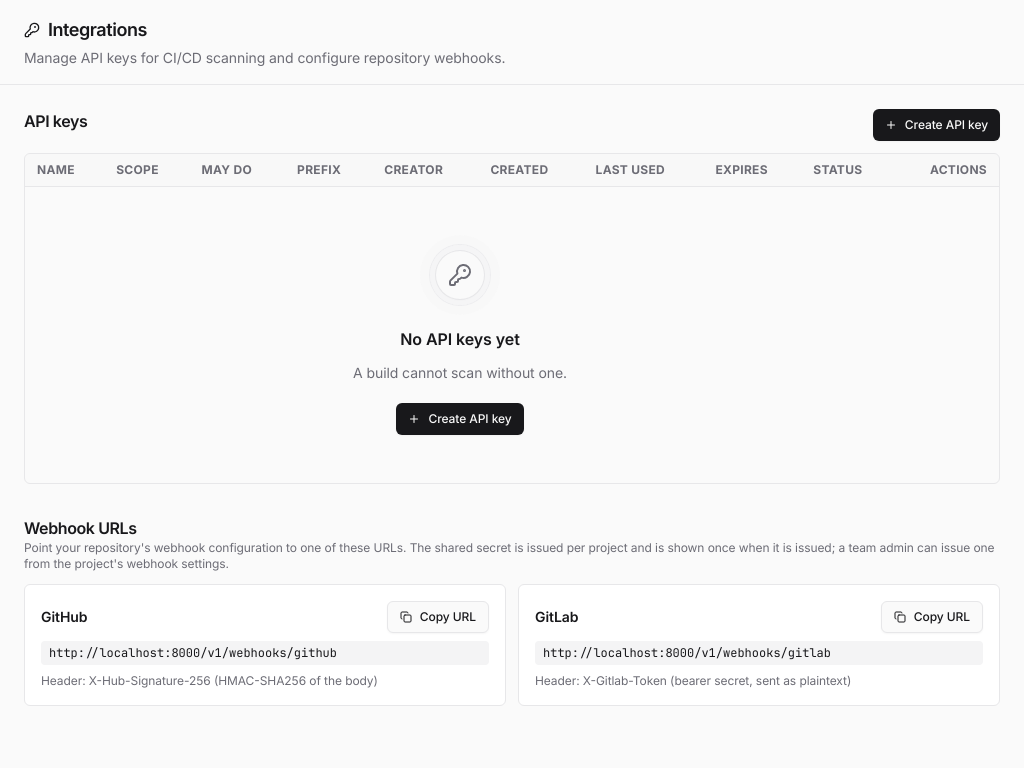
Test case: IntegrationsPage › offers the key from the empty state, for a reader who can create one
expect the message with test id "integrations-keys-empty" shows "A build cannot scan without one.": met, box [353,364,567,381]
Pressed, not just present: a button wired to nothing would have passed.
Click the button with test id "integrations-keys-empty-create" at {"x": 460, "y": 419}, box [396,403,524,435]
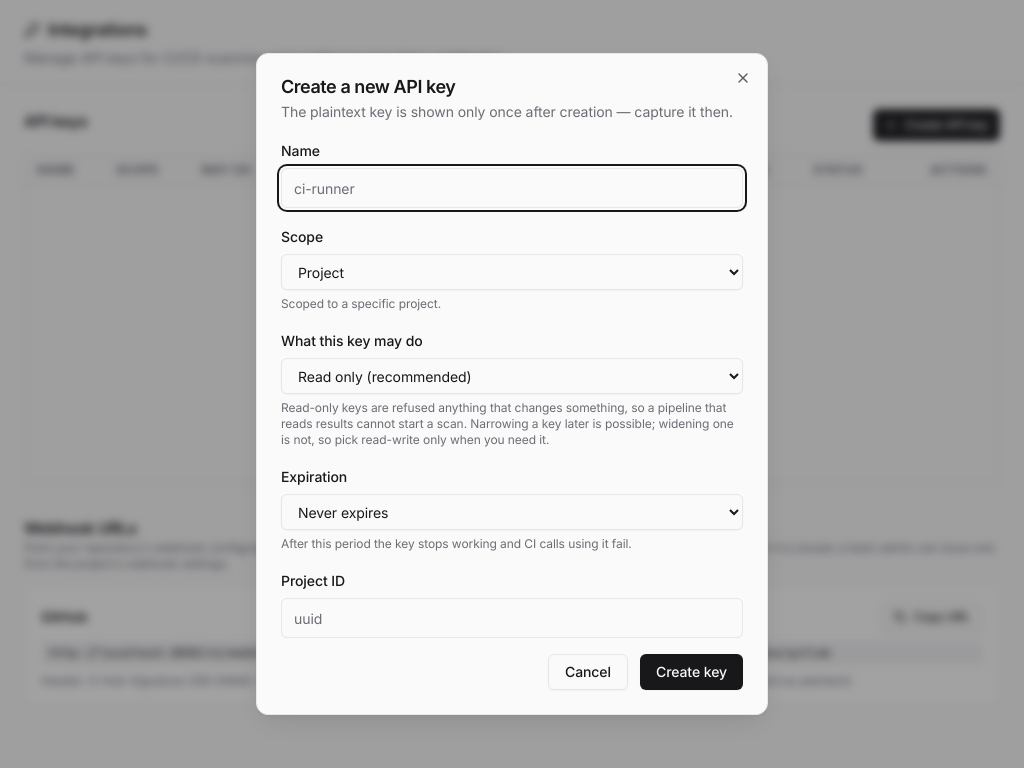
expect the dialog with test id "integrations-create-dialog" is shown: met, box [256,53,768,715]
